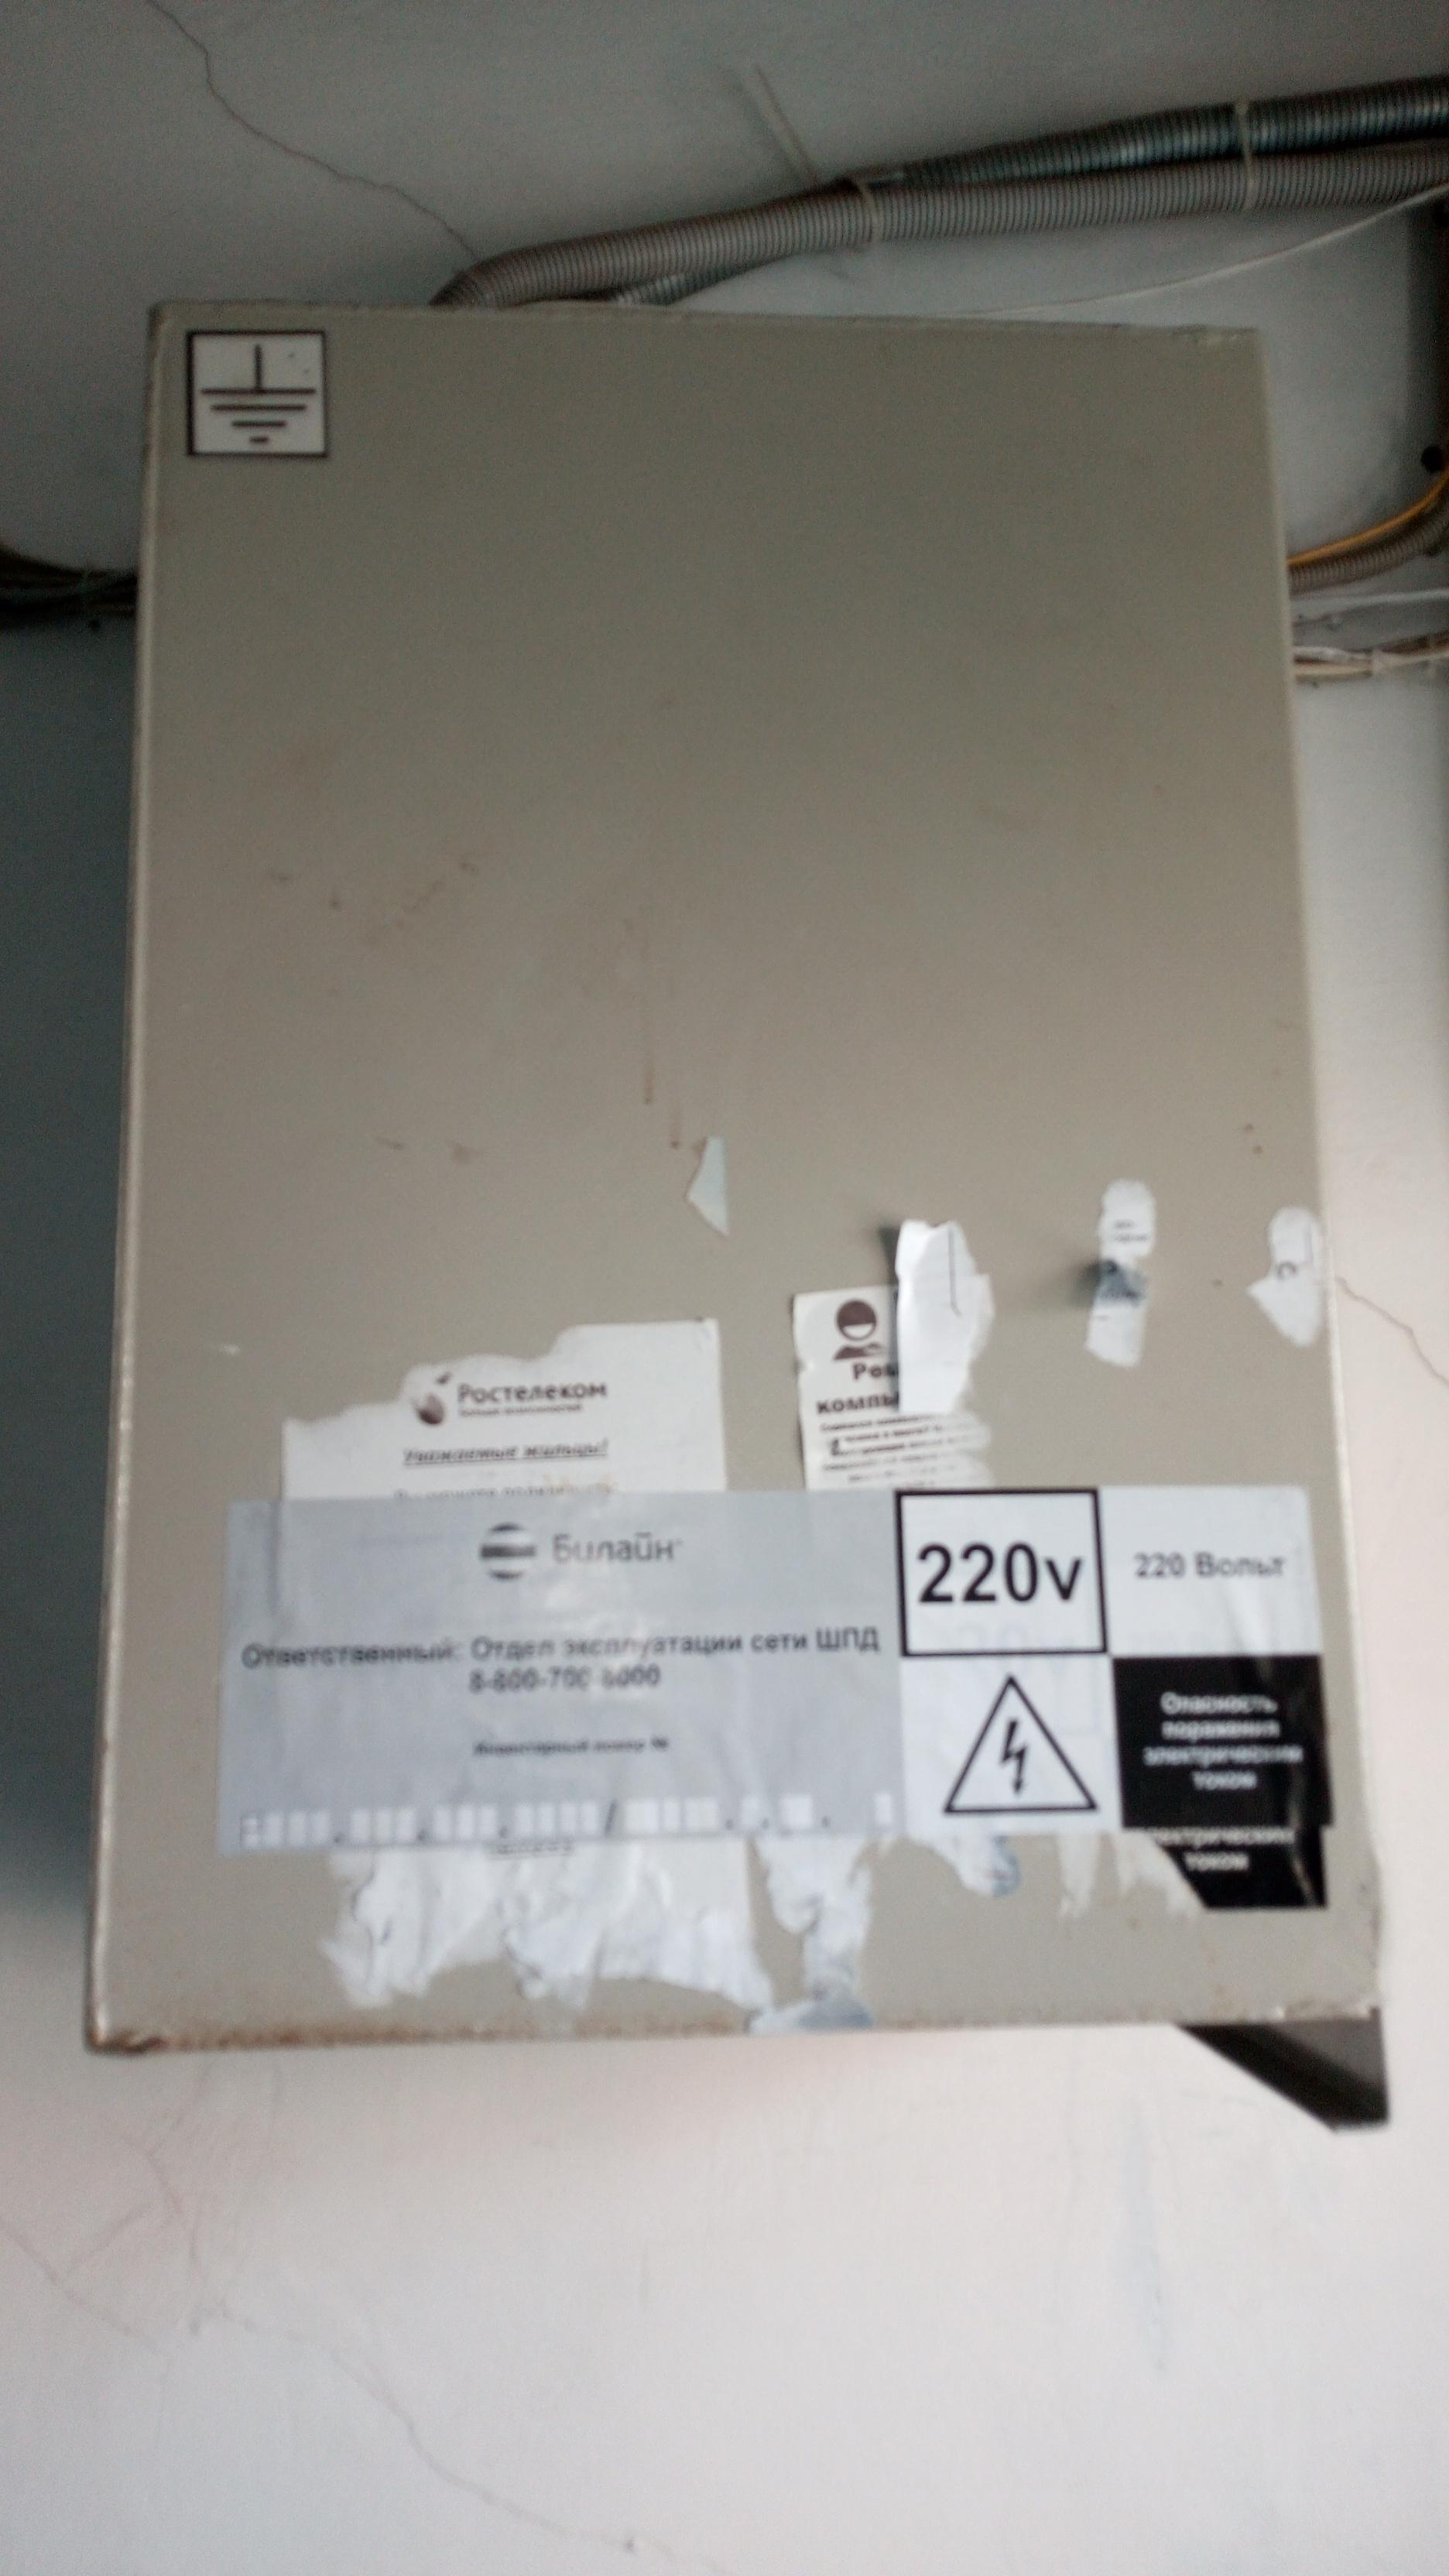sv-5: (69, 260, 1399, 2063)
